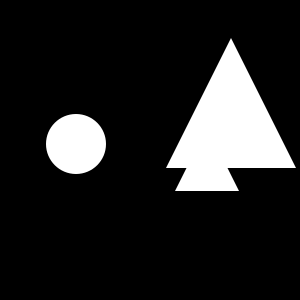rectangle: (46, 114, 106, 174)
triangle: (166, 38, 296, 168), (175, 127, 239, 191)
